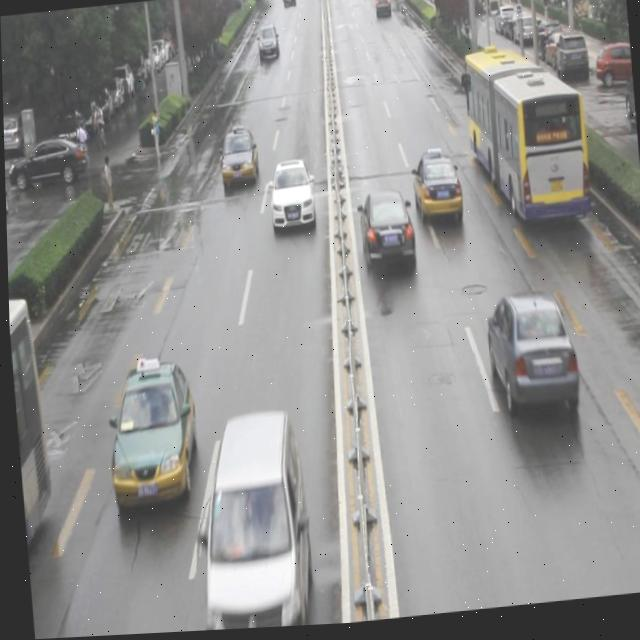car: (97, 356, 200, 515), (479, 289, 578, 431), (356, 191, 415, 285), (409, 154, 462, 234), (266, 161, 315, 240), (216, 128, 258, 193)
truck: (187, 411, 312, 633)
van: (460, 45, 591, 239), (7, 290, 56, 583)
